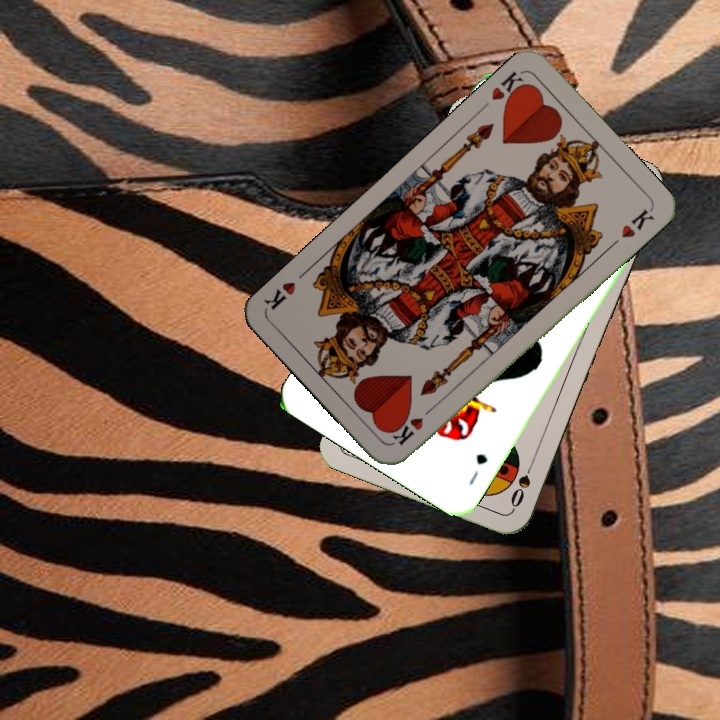GU: (464, 449, 491, 488)
HK: (388, 401, 438, 448), (487, 67, 531, 109)
SO: (506, 455, 538, 512)
